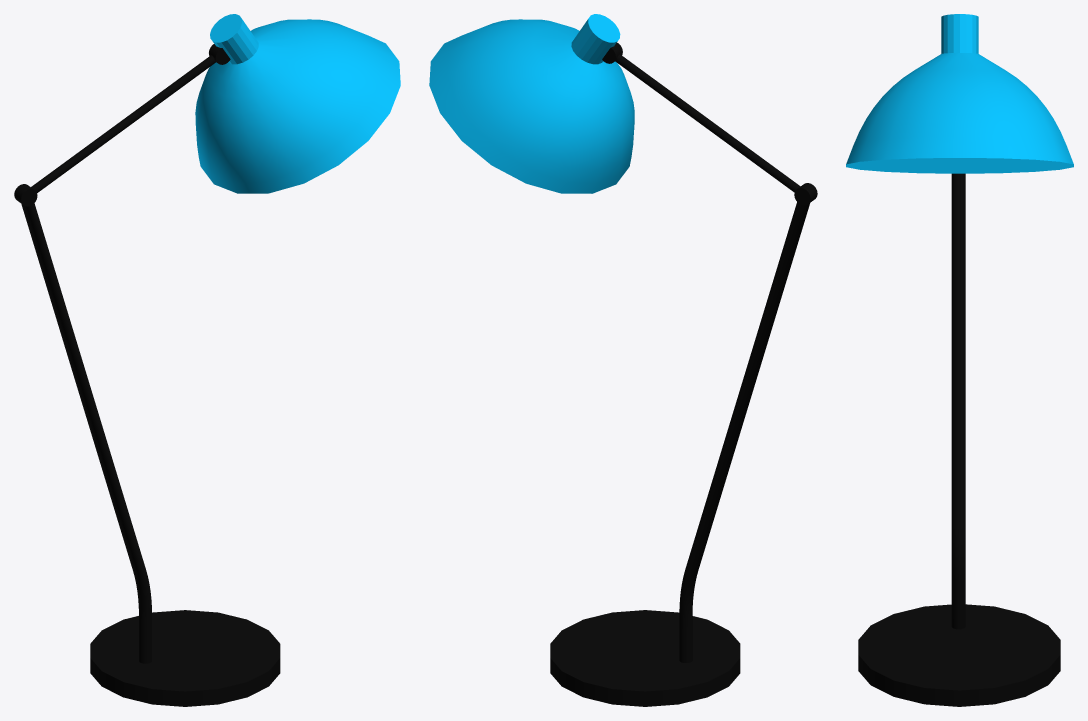
The model's file is Desklamp.obj.
3 views of the same model, side by side, from view 1: azimuth 30°, elevation 25°; view 2: azimuth 150°, elevation 25°; view 3: azimuth 270°, elevation 25° (orthographic). The views are drawn at different scales.
Parts seen in each view (by area): view 1: Cylinder006, Cylinder001, Cylinder002, Cylinder003; view 2: Cylinder006, Cylinder001, Cylinder002, Cylinder003; view 3: Cylinder006, Cylinder001, Cylinder002.
Boxes of the visible parts, x1,y1,x2,y2 form: Cylinder006: (195,14,400,193); Cylinder001: (90,610,280,706); Cylinder002: (21,203,151,663); Cylinder003: (31,55,215,192); Cylinder006: (429,14,634,193); Cylinder001: (550,610,740,706); Cylinder002: (679,202,809,662); Cylinder003: (615,54,800,192); Cylinder006: (846,14,1073,173); Cylinder001: (858,604,1060,706); Cylinder002: (951,173,965,629).
Bounding box in the file's own units: 208235 × 343626 × 104696.
